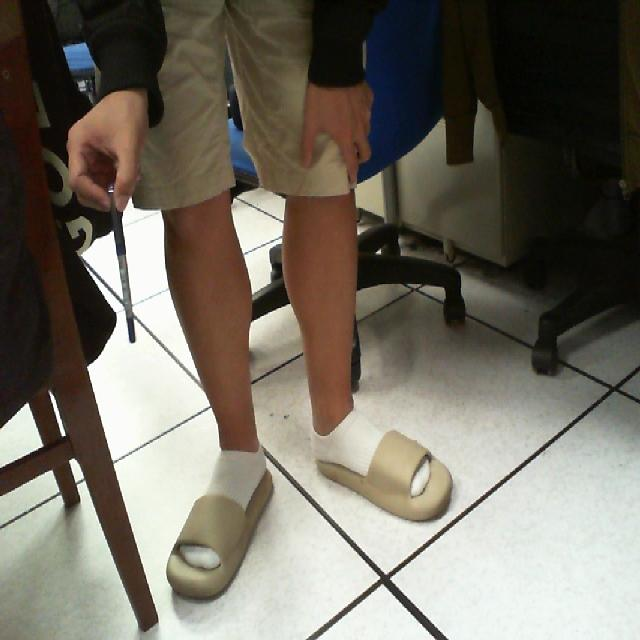Pen: (91, 156, 146, 385)
